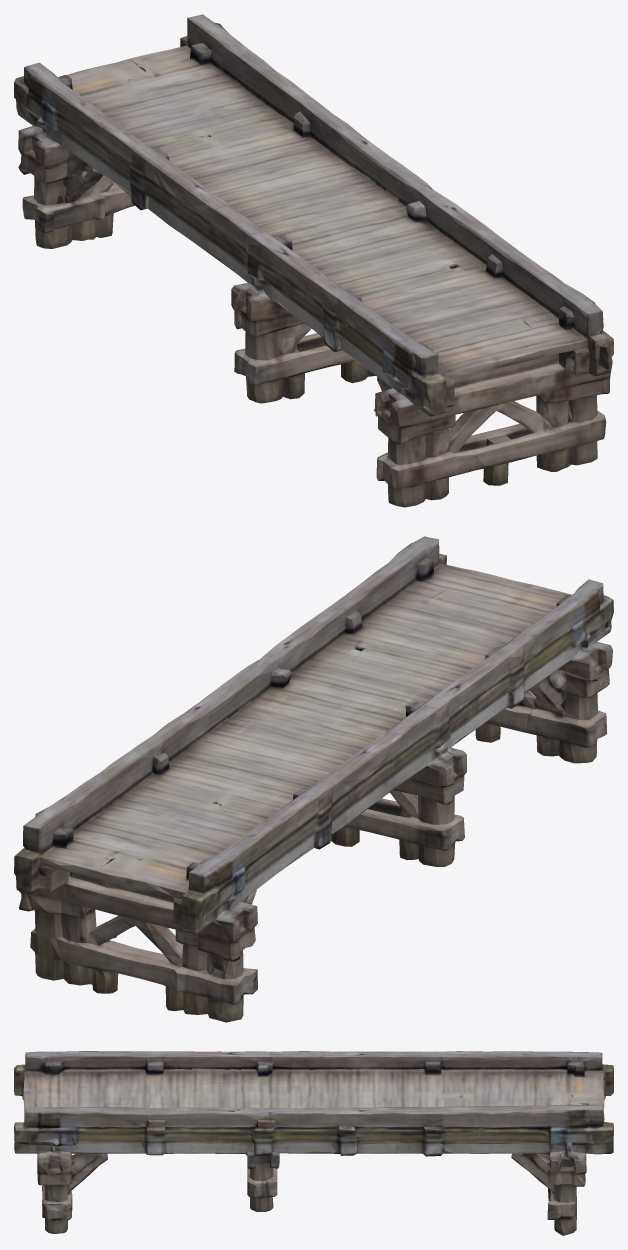
Rendered from bridge_wood.obj.
3 renders of one model, top to bottom at view 1: azimuth 30°, elevation 25°; view 2: azimuth 150°, elevation 25°; view 3: azimuth 270°, elevation 25°, orthographic. The views are drawn at different scales.
Visible parts, largest first — view 1: bridge_wood; view 2: bridge_wood; view 3: bridge_wood.
Part boxes in pixels (<box>): bridge_wood: <box>14,14,613,507</box>; bridge_wood: <box>14,536,613,1022</box>; bridge_wood: <box>14,1051,613,1235</box>.
Bounding box in the file's own units: 4.29 × 3.16 × 14.
1 material, 1 textured.
